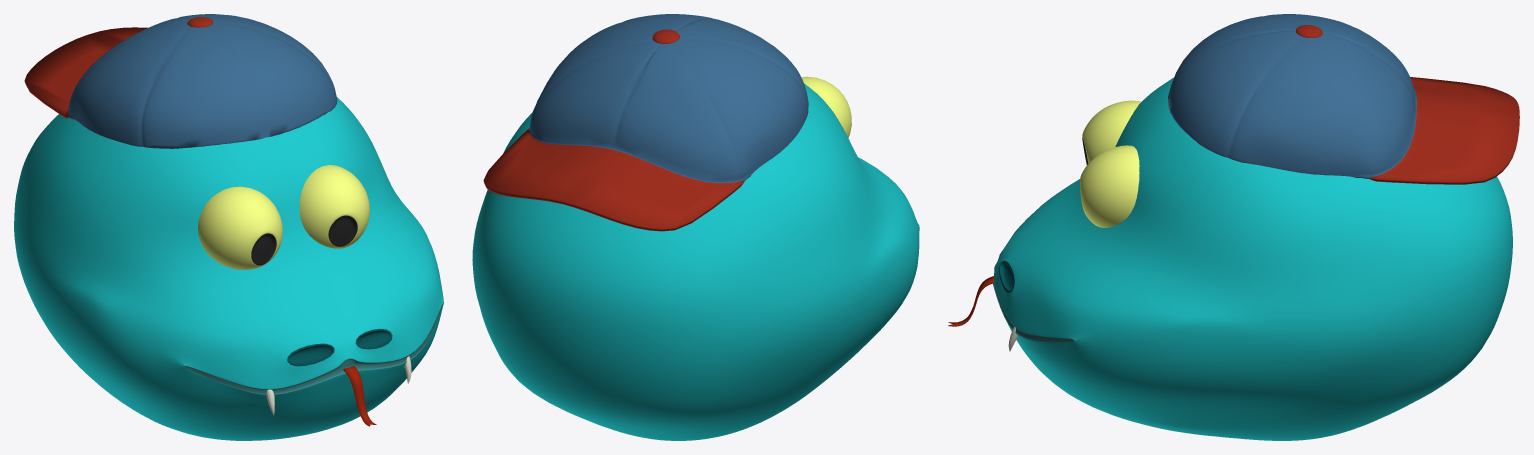
Rendered from MrSnake_blue.fbx.
The picture shows the model from 3 angles, left to right: view 1: azimuth 30°, elevation 25°; view 2: azimuth 150°, elevation 25°; view 3: azimuth 270°, elevation 25°; orthographic projection. The views are drawn at different scales.
Parts seen in each view (by area): view 1: Mr.Snake_blue.001, Cap.005, RightEye.027, RightEye.026, Tongue.015; view 2: Mr.Snake_blue.001, Cap.005, RightEye.027; view 3: Mr.Snake_blue.001, Cap.005, RightEye.026, RightEye.027.
Boxes of the visible parts, x1,y1,x2,y2 form: Mr.Snake_blue.001: [14, 97, 443, 440]; Cap.005: [24, 14, 337, 148]; RightEye.027: [198, 186, 282, 269]; RightEye.026: [299, 165, 369, 248]; Tongue.015: [343, 366, 376, 426]; Mr.Snake_blue.001: [472, 83, 919, 440]; Cap.005: [483, 14, 808, 231]; RightEye.027: [801, 76, 851, 137]; Mr.Snake_blue.001: [993, 77, 1512, 440]; Cap.005: [1168, 14, 1519, 184]; RightEye.026: [1080, 145, 1139, 227]; RightEye.027: [1082, 100, 1141, 164].
Bounding box in the file's own units: 204 × 218 × 285.
